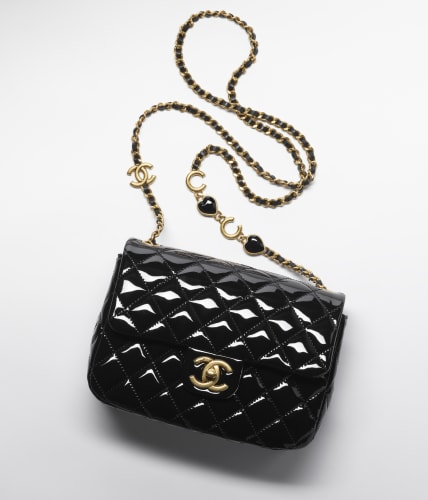channel: (106, 229, 361, 457), (132, 260, 279, 333), (175, 341, 234, 401), (99, 145, 161, 199)
